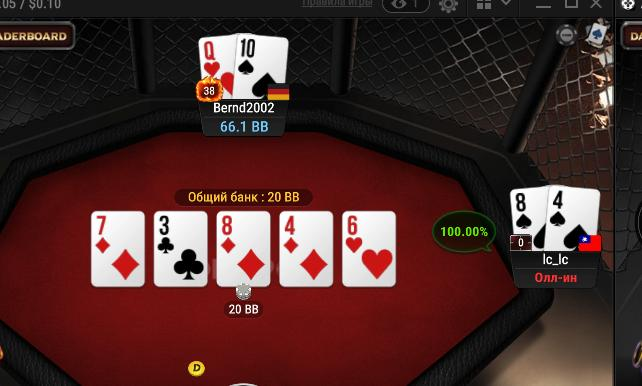10s: (235, 30, 287, 100)
3c: (155, 211, 207, 287)
4d: (279, 212, 332, 286)
4s: (547, 185, 599, 252)
6h: (343, 212, 396, 285)
7d: (92, 211, 145, 286)
8d: (217, 212, 269, 287)
8s: (509, 186, 546, 250)
Qh: (196, 35, 235, 99)
